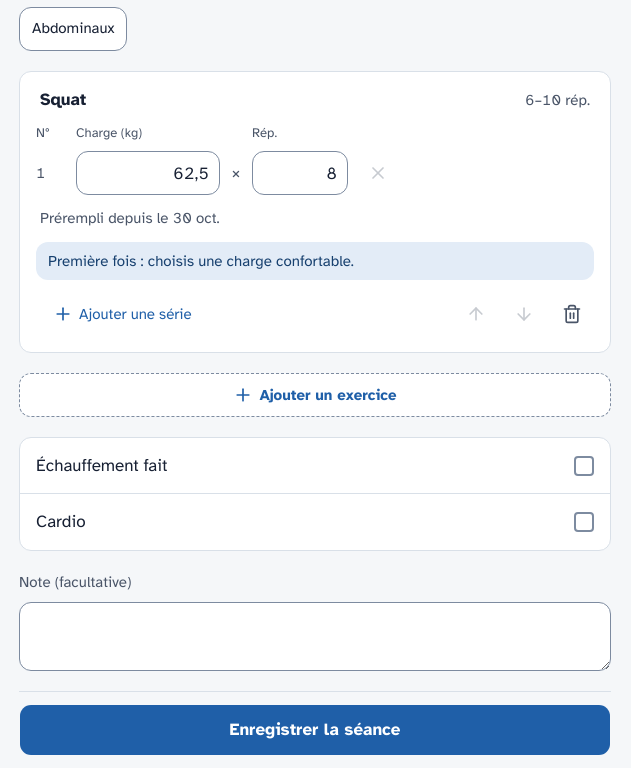
Scenario: WorkoutEditor › cardio « Autre » à 0 : message et aucun envoi (Review Focus 2)
(page scrolled)
Check: the element "Squat" is shown, box left=19, top=70, right=611, bottom=353
Click the checkbox labelled "Cardio" at (584, 522), box left=574, top=512, right=594, bottom=532
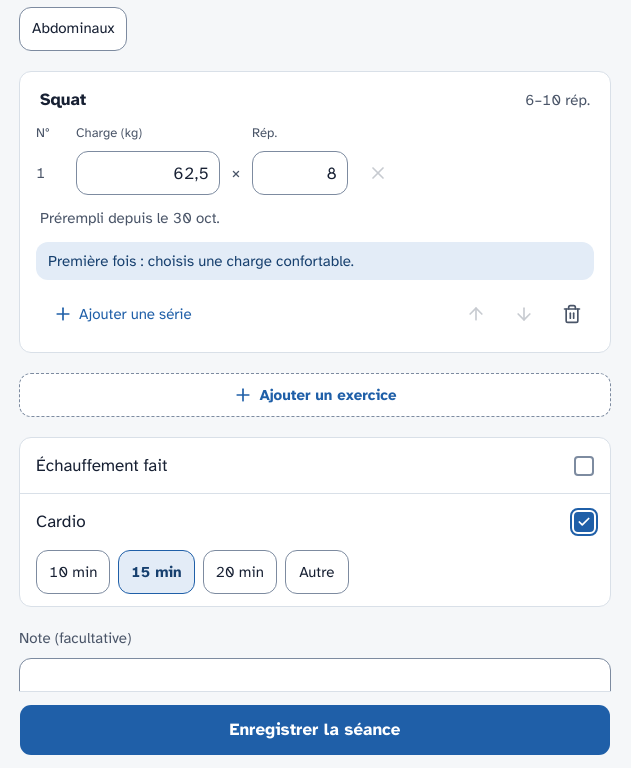
Click the button "Autre" at (317, 572), box left=285, top=550, right=349, bottom=594
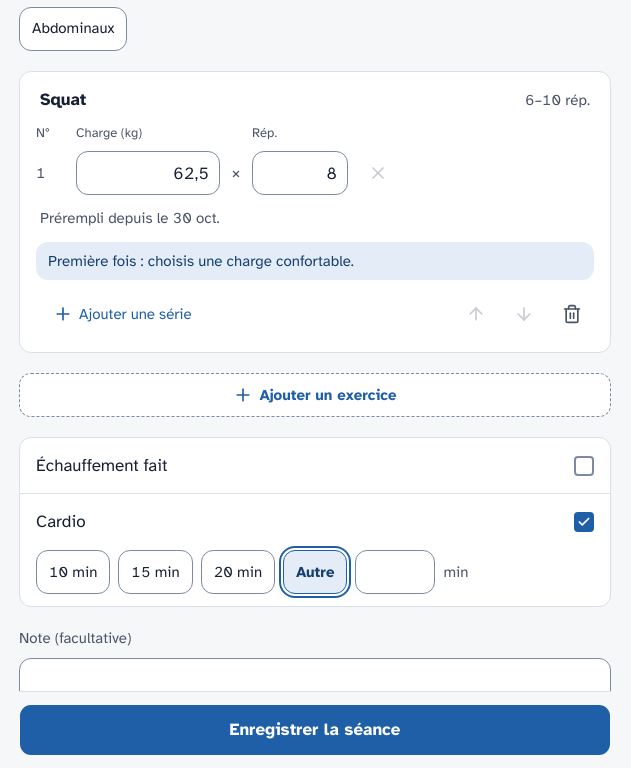
Type "0" into the field named "Durée du cardio (min)" at (395, 572), box left=355, top=550, right=435, bottom=594
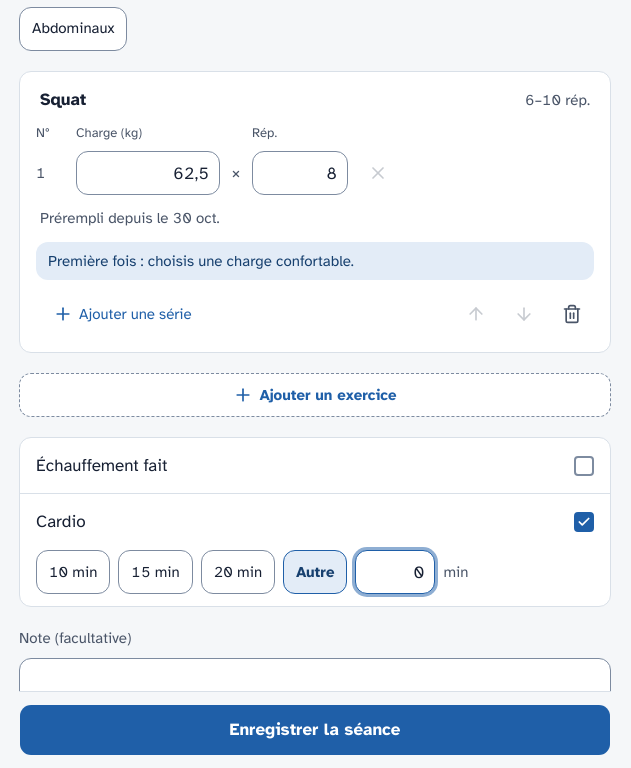
Click the button "Enregistrer la séance" at (315, 730), box left=19, top=704, right=611, bottom=756
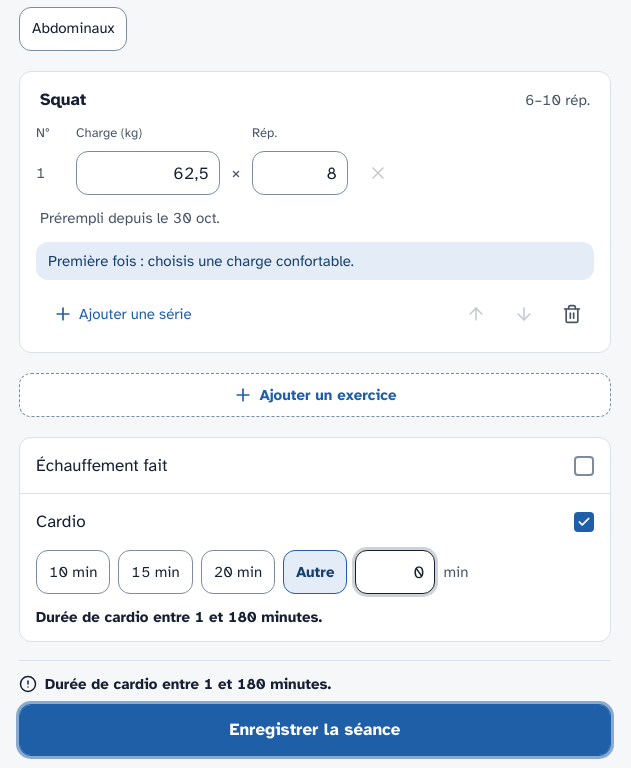
Check: the text "Durée de cardio entre 1 et 180 minutes." is shown, box left=36, top=608, right=322, bottom=626
